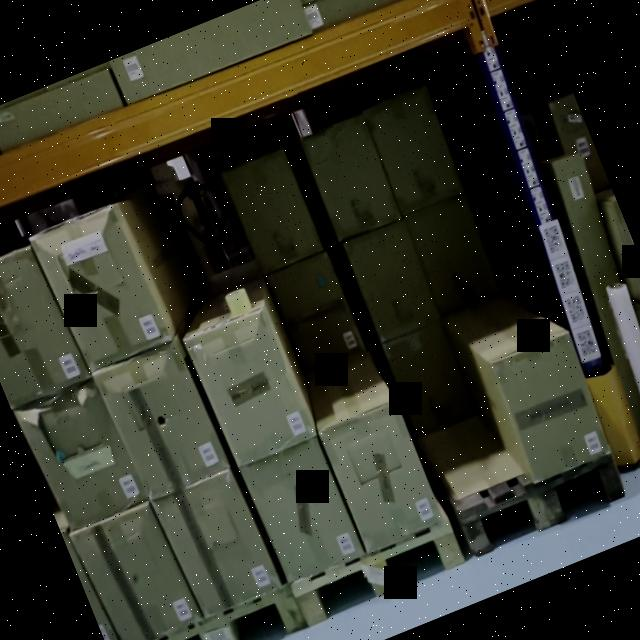box: (37, 208, 172, 370), (319, 396, 446, 556), (100, 344, 230, 498), (188, 312, 316, 466), (20, 381, 145, 530), (159, 478, 280, 624), (73, 502, 196, 640), (490, 336, 609, 476), (242, 440, 361, 580), (362, 86, 466, 218), (300, 114, 400, 238), (341, 218, 442, 340), (223, 152, 320, 268), (270, 257, 364, 368), (405, 197, 498, 309)
